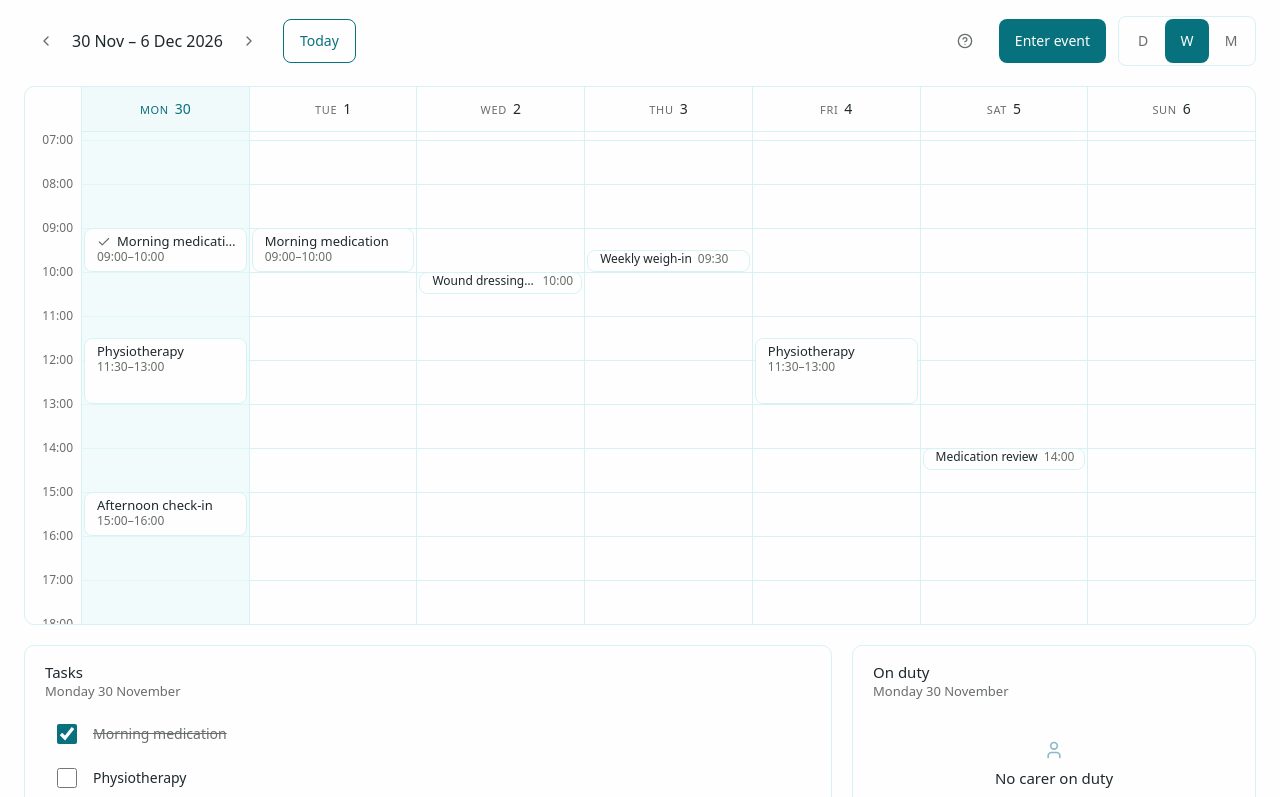
Test: [FAM-UI-02][AC-04] ticking a task › [FAM-UI-02][AC-04] a tick is local: it stays when another day is selected and back again, and nothing is saved
The image size is (1280, 797).
(page scrolled)
Step 1. Click the checkbox labelled "Physiotherapy" → {"x": 67, "y": 778}, box [57,768,77,788]
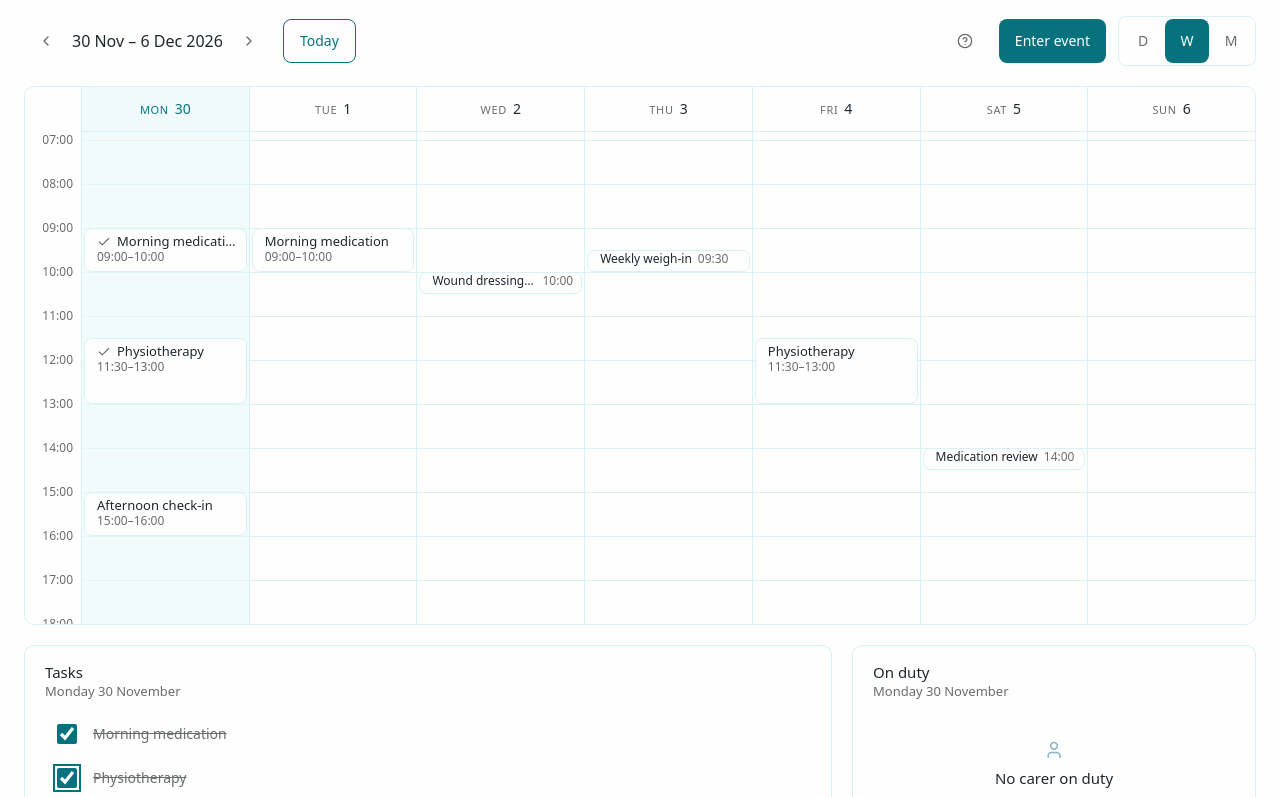
Step 2. Click the button with test id "week-grid-header-2026-12-01" → {"x": 333, "y": 109}, box [249,87,416,131]
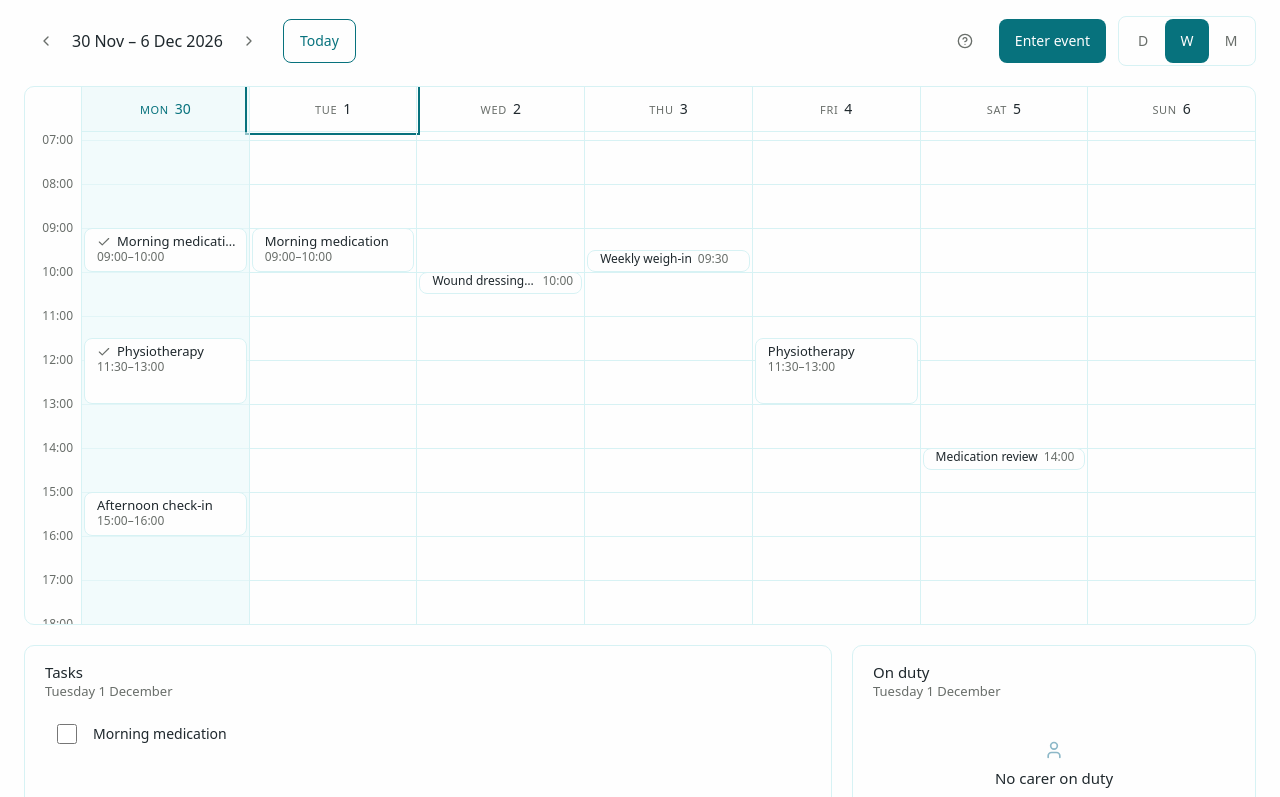
Step 3. Click the button with test id "week-grid-header-2026-11-30" → {"x": 165, "y": 109}, box [81,87,249,131]
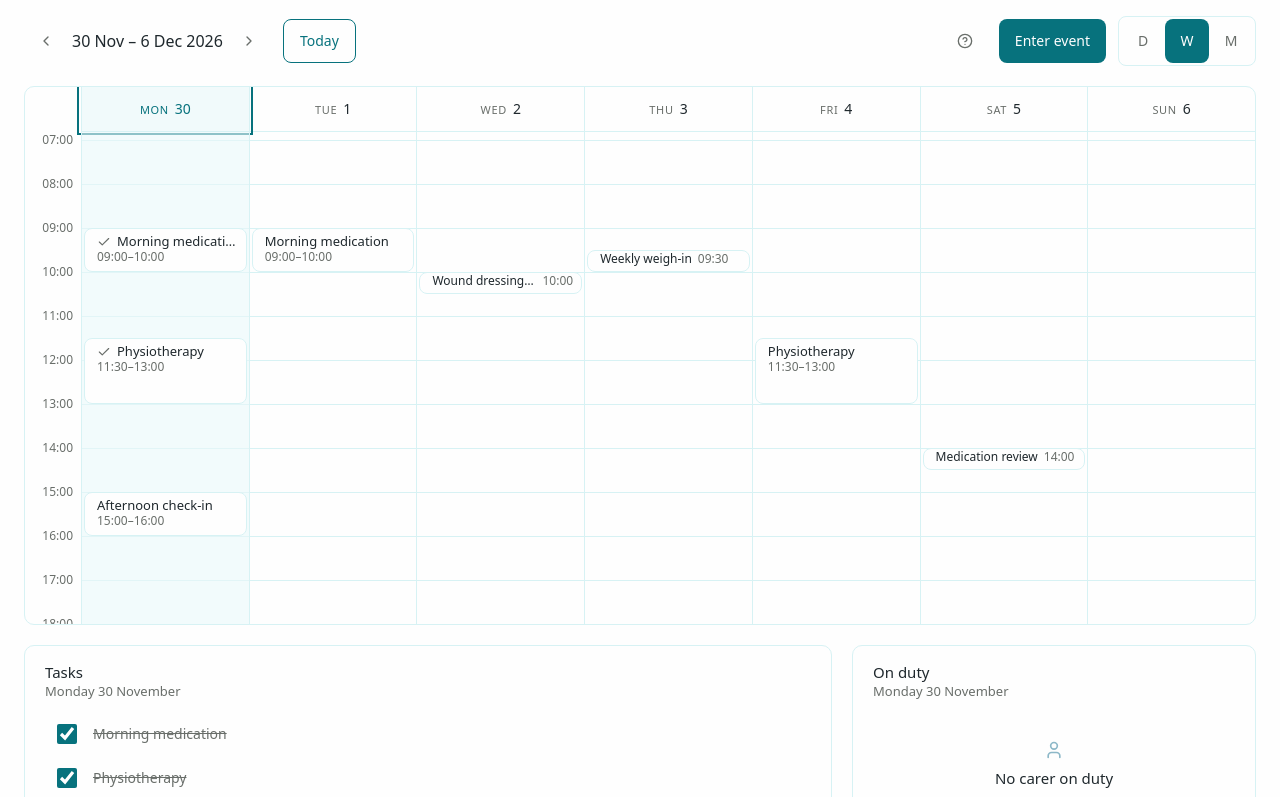
Expected: the checkbox labelled "Physiotherapy" is checked, [57,768,77,788]
